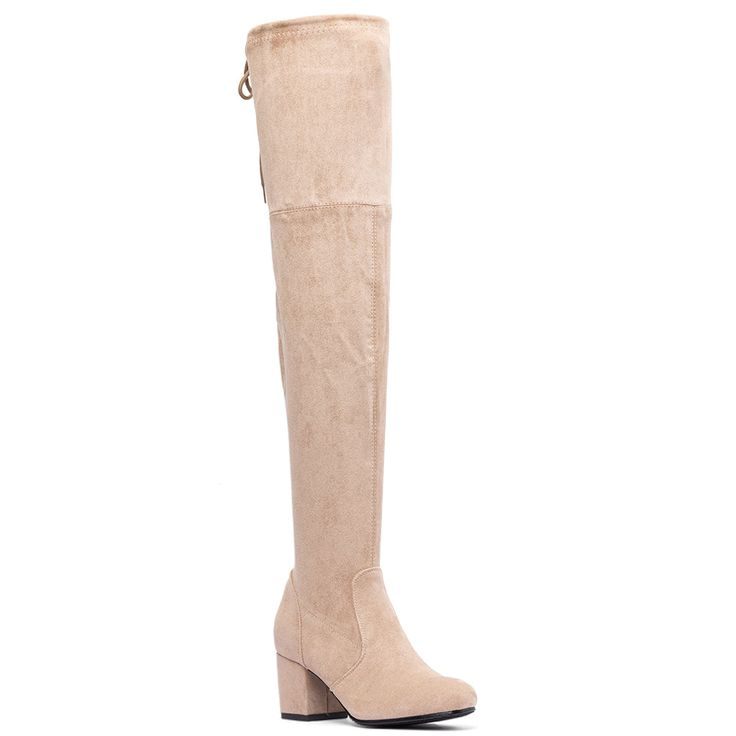gamuza: (238, 14, 475, 719)
